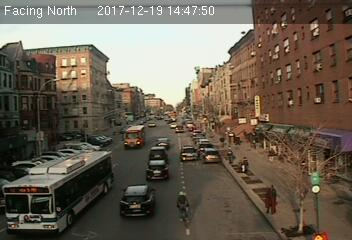bicycle: (175, 190, 194, 231)
bus: (4, 147, 113, 235)
car: (119, 184, 156, 218), (145, 160, 170, 180), (200, 147, 220, 164), (147, 146, 168, 161), (180, 145, 198, 161), (155, 136, 171, 148), (174, 125, 184, 133)
pedestrian: (240, 157, 249, 175)
truck: (124, 125, 144, 148)
